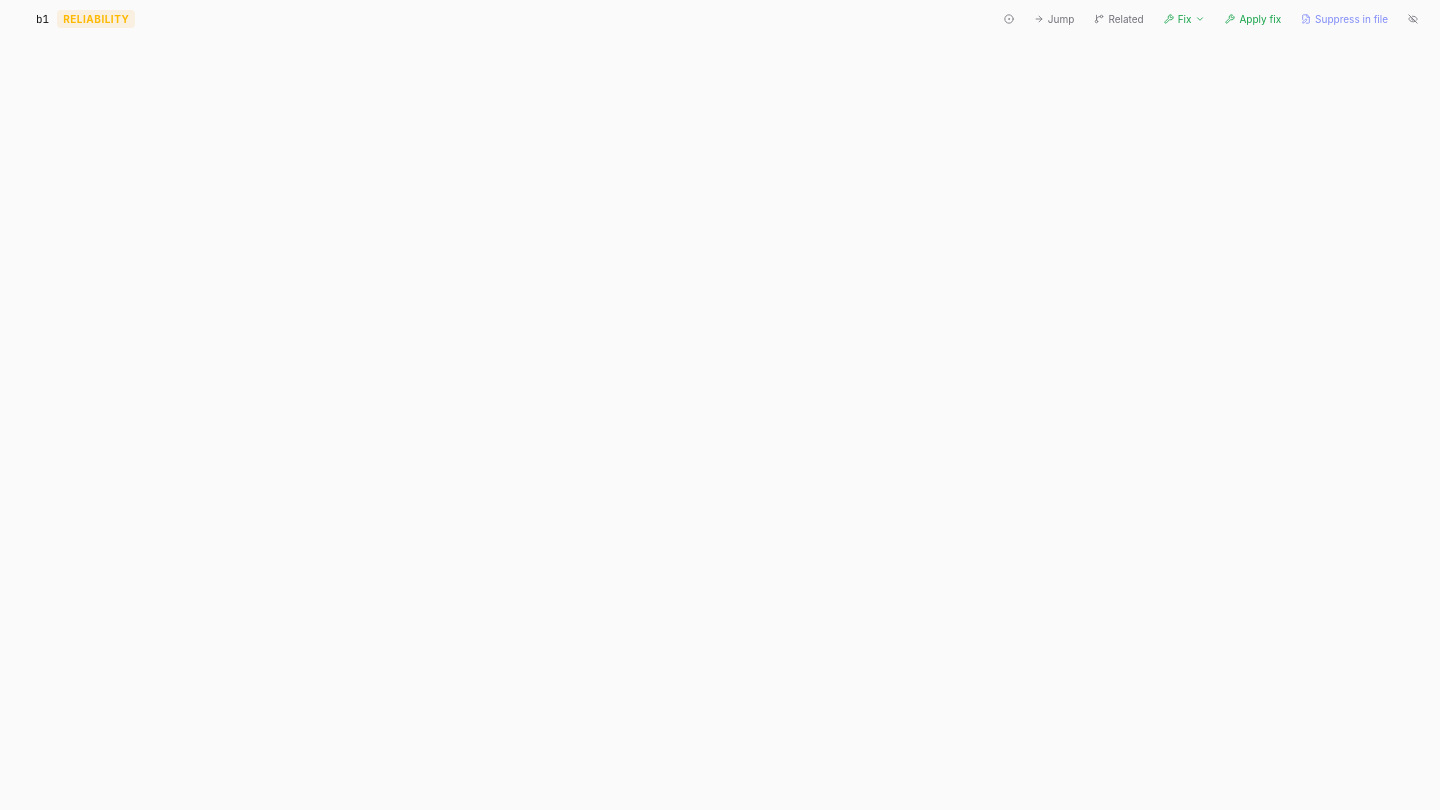
Scenario: FindingCard suppress reason › does not suppress when the reason prompt is cancelled
The image size is (1440, 810).
Step 1. Click the button named "Suppress this finding" → {"x": 1413, "y": 19}, box [1402,10,1424,28]
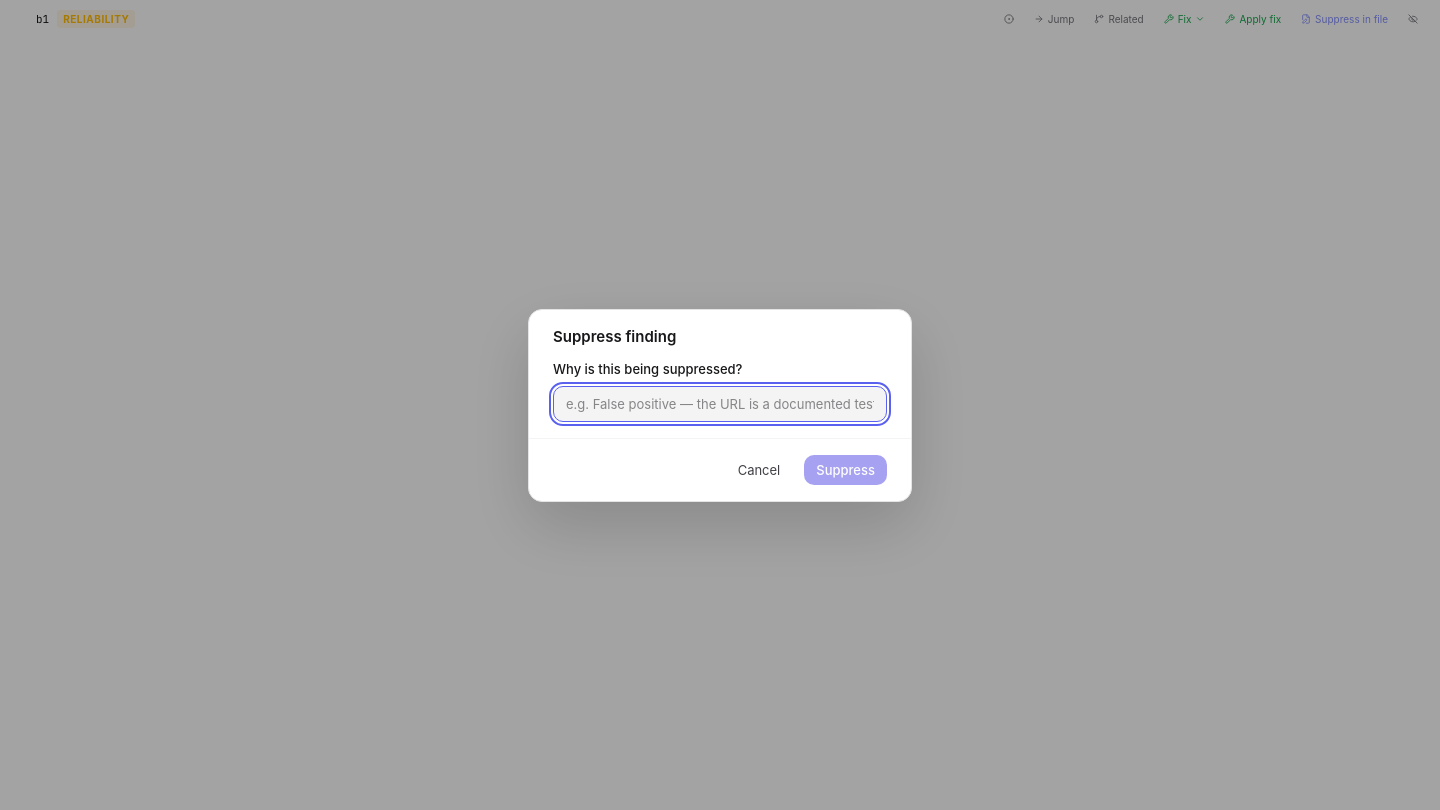
Step 2. Click the button "Cancel" → {"x": 759, "y": 470}, box [726,454,792,484]
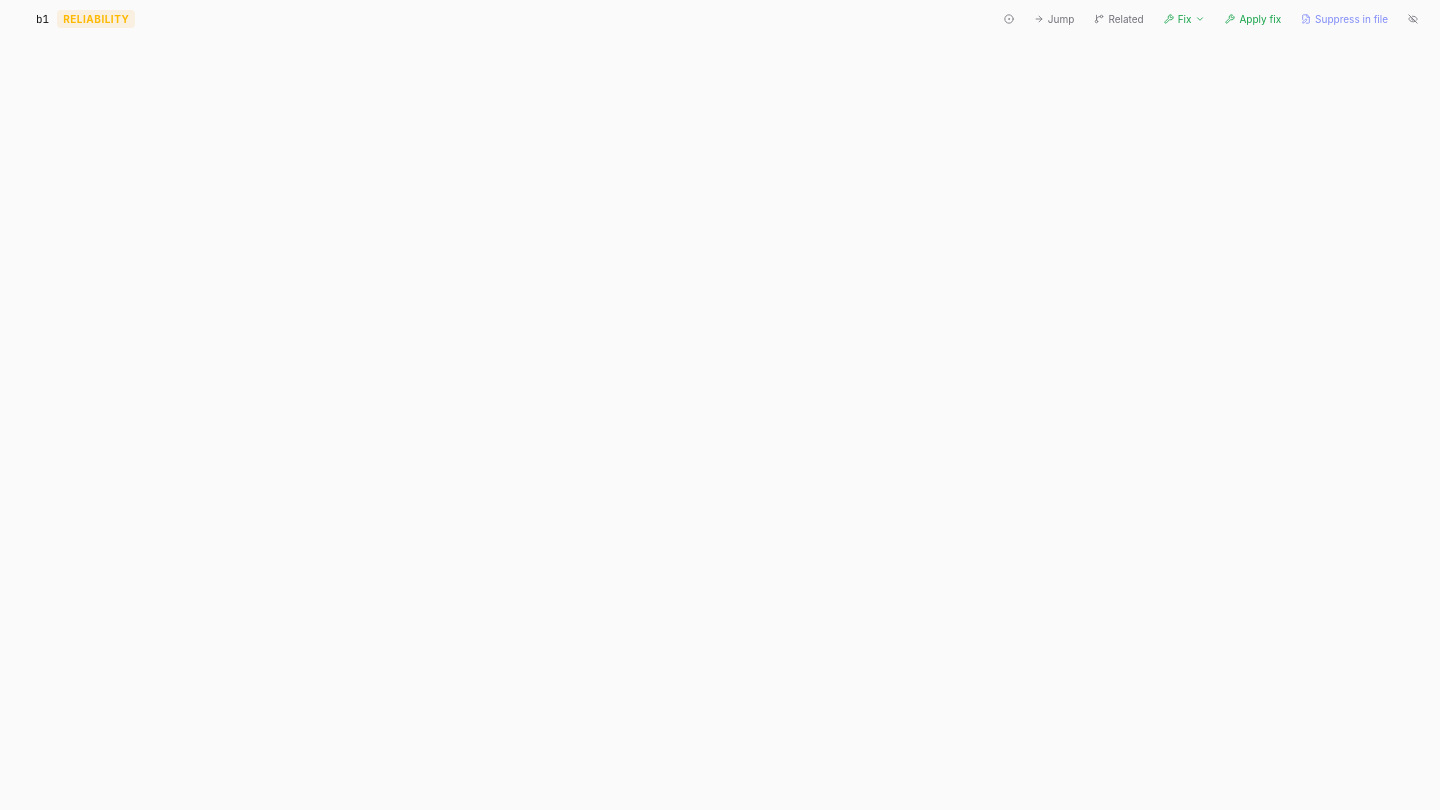
Expected: the text "Why is this being suppressed?" is gone
